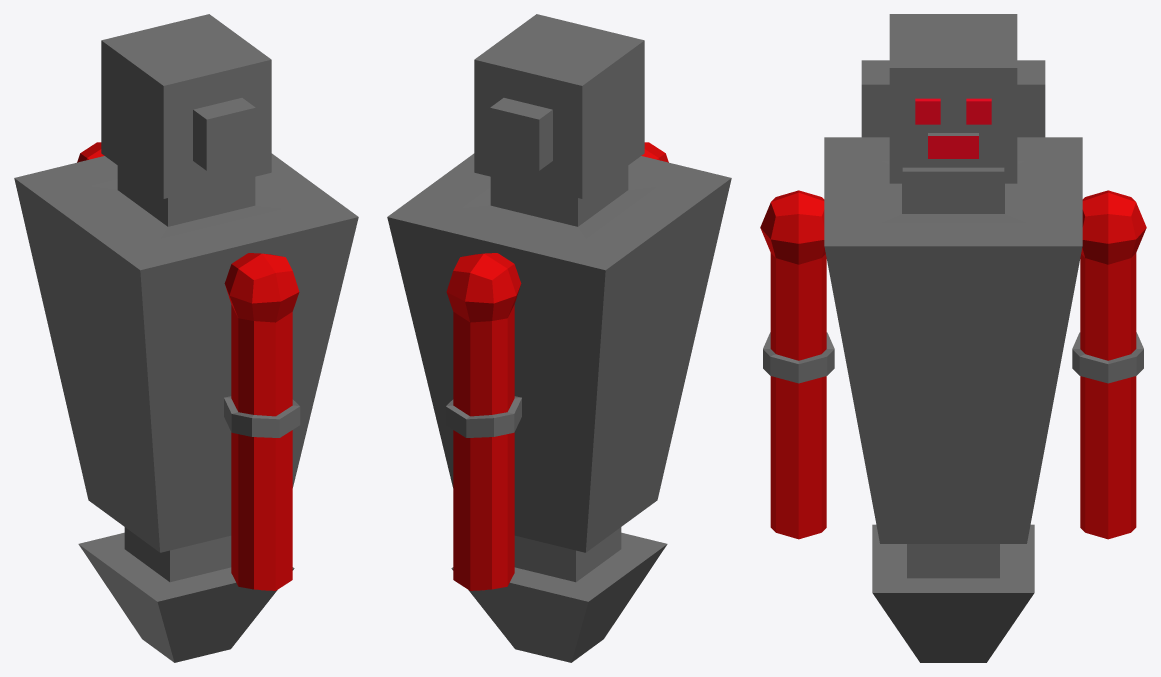
File: robot ayakları eksik.fbx
The picture shows the model from 3 angles, left to right: view 1: azimuth 30°, elevation 25°; view 2: azimuth 150°, elevation 25°; view 3: azimuth 270°, elevation 25°; orthographic projection. The views are drawn at different scales.
Parts seen in each view (by area): view 1: Cube.003, Cube.005; view 2: Cube.003, Cube.005; view 3: Cube.003, Cube.005.
Boxes of the visible parts, left/top/right/bottom form: Cube.003: left=14, top=14, right=358, bottom=662; Cube.005: left=77, top=142, right=300, bottom=590; Cube.003: left=387, top=14, right=731, bottom=662; Cube.005: left=445, top=142, right=668, bottom=590; Cube.003: left=824, top=14, right=1082, bottom=662; Cube.005: left=760, top=190, right=1146, bottom=539.
Size of the model in its own units: 282 by 733 by 422.
